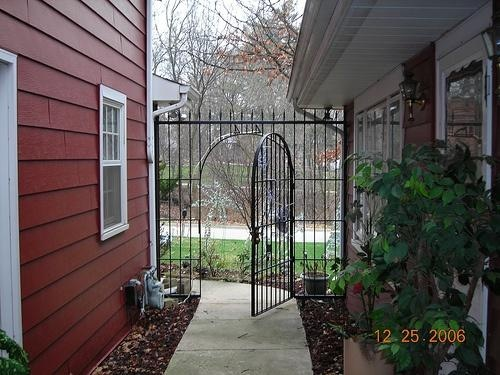pottedplant: (334, 150, 411, 375), (302, 252, 337, 296)
